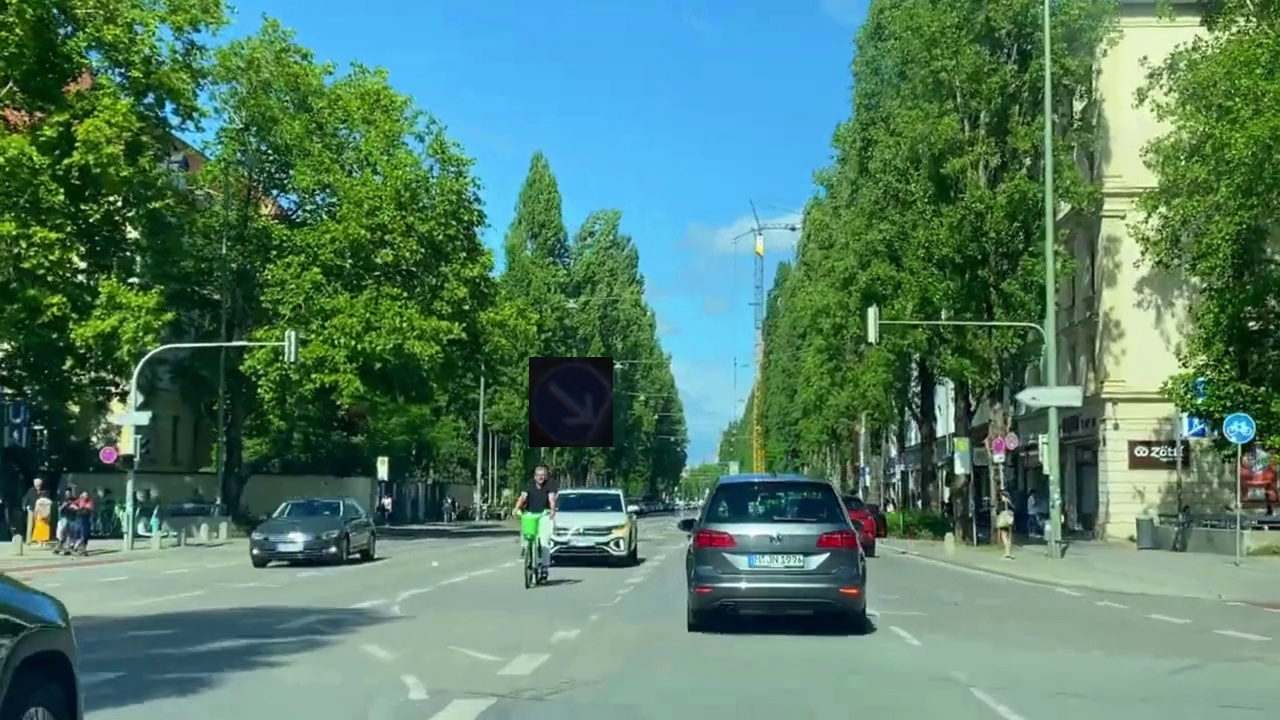Keep right: (529, 357, 613, 447)
